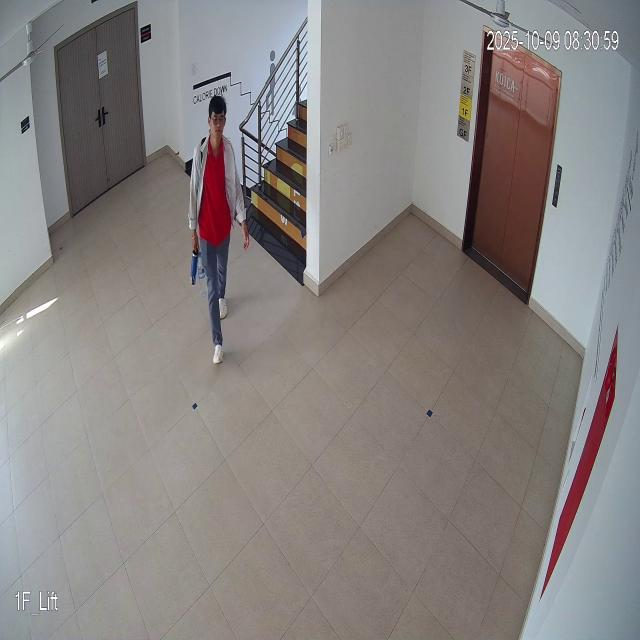face: (206, 90, 228, 155)
